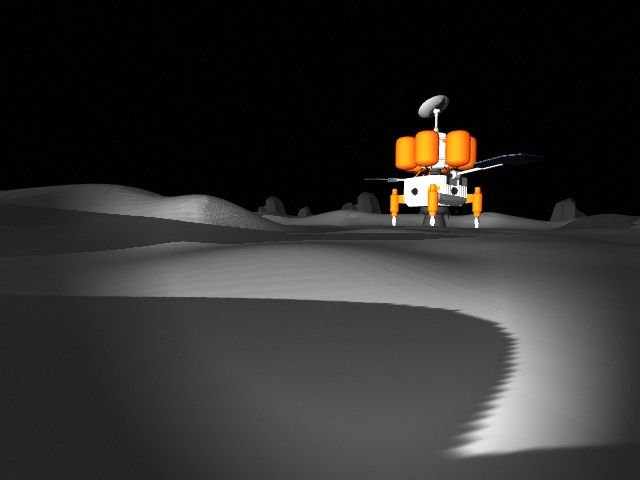homebase: (351, 94, 538, 231)
